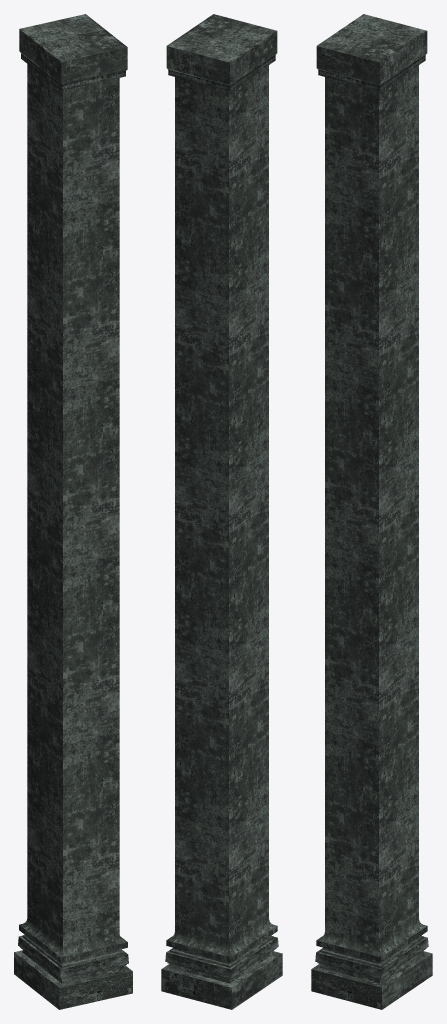
The model's file is mg_9_pillar_0.fbx.
The picture shows the model from 3 angles, left to right: view 1: azimuth 30°, elevation 25°; view 2: azimuth 150°, elevation 25°; view 3: azimuth 330°, elevation 25°; orthographic projection.
Parts seen in each view (by area): view 1: mg_9_pillar_0; view 2: mg_9_pillar_0; view 3: mg_9_pillar_0.
Boxes of the visible parts, x1=… form: mg_9_pillar_0: x1=14, y1=14, x2=132, y2=1009; mg_9_pillar_0: x1=161, y1=14, x2=282, y2=1009; mg_9_pillar_0: x1=311, y1=14, x2=432, y2=1009.
Bounding box in the file's own units: 165 × 1997 × 189.
